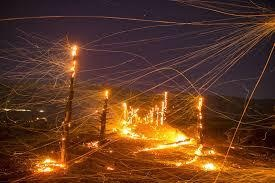fire: (32, 155, 66, 173), (65, 41, 78, 75)
